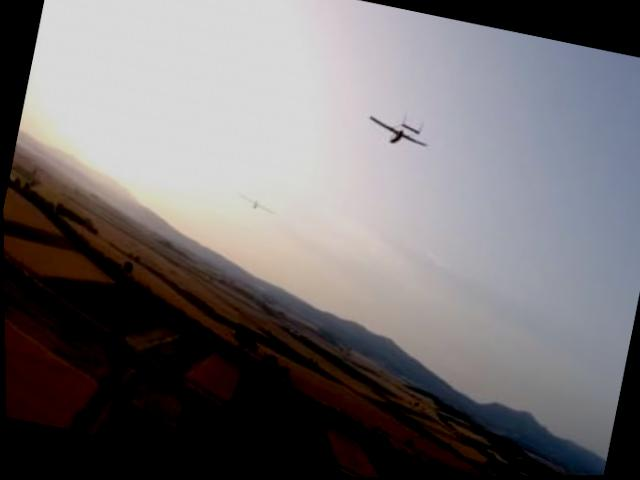uav: (363, 107, 436, 157), (235, 195, 278, 216)
